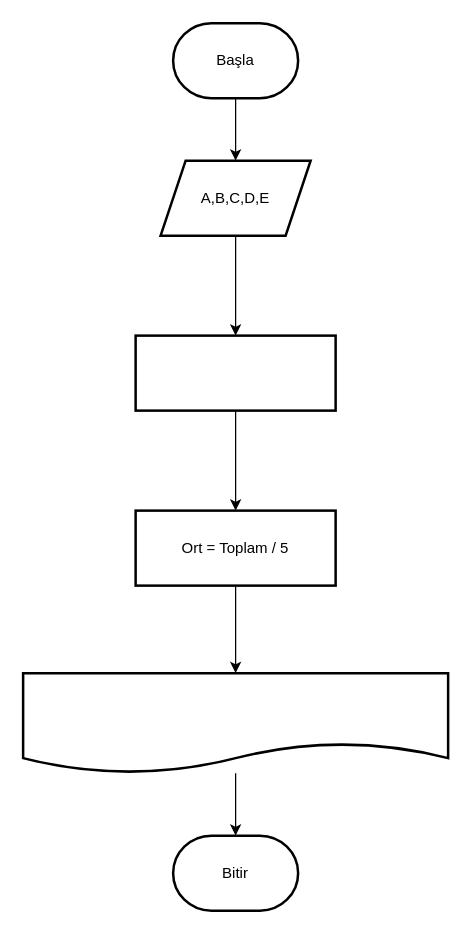
The diagram is 470 pixels wide and 933 high, and some of its shapes have lost their labels. Here are the shapes that lost their labels. From the top down, the centre of each, then its label:
point 235,372: Toplam = A + B + C + D + E
point 235,722: "Toplam =" , Toplam , "\n Ortalama =" , Ort
